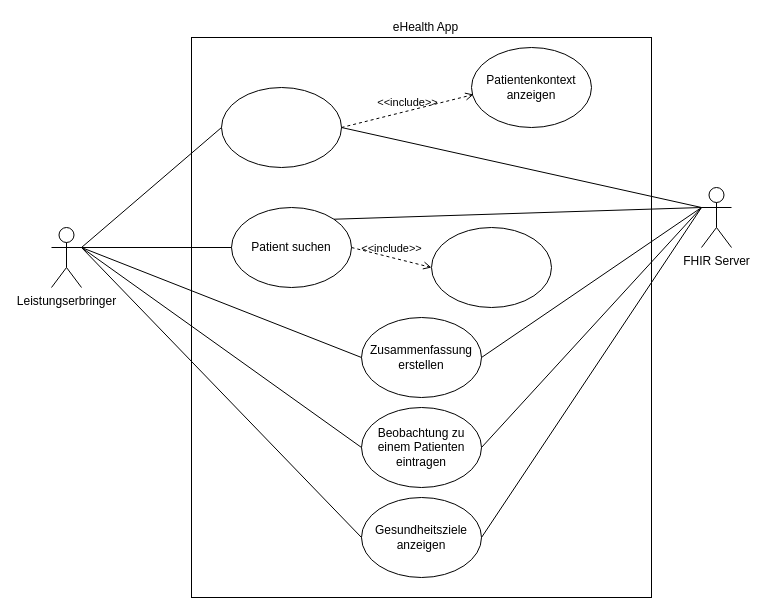
The diagram is 767 pixels wide and 615 high, and some of its shapes have lost their labels. The shapes that lost their labels are listed below. From the top down, each one's centre as x and y in pixels, then its label:
At (x=281, y=127): "Patientenkontext setzen".
At (x=491, y=267): "Patientendaten anzeigen".
